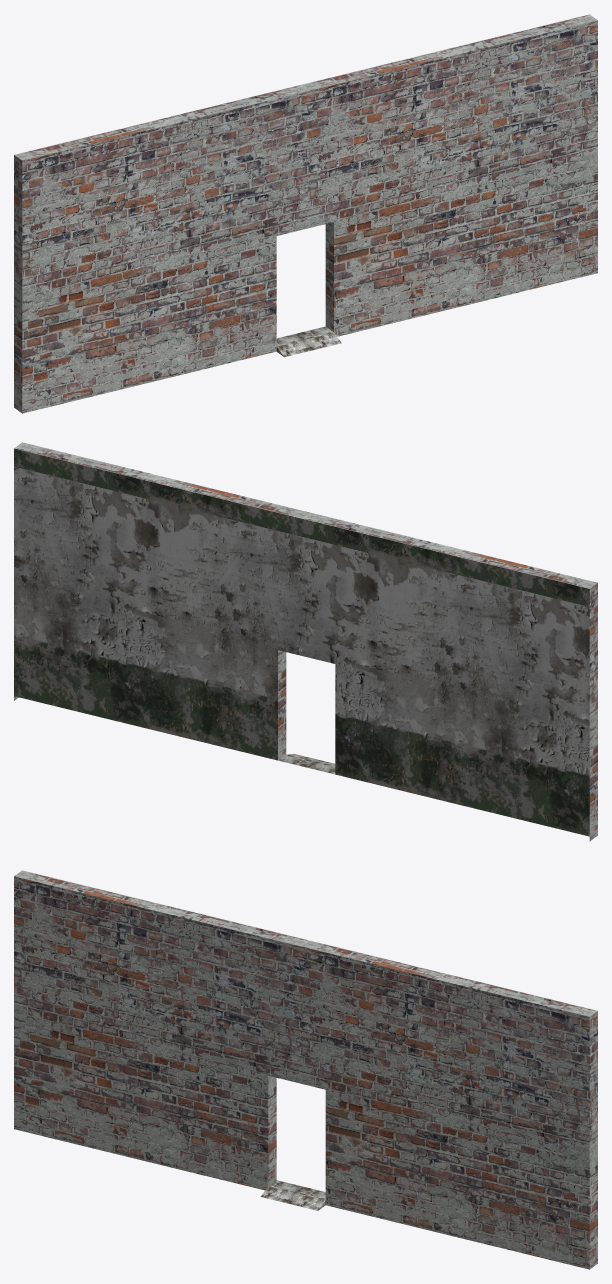
Rendered from Factory2Wall01.FBX.
3 renders of one model, top to bottom at view 1: azimuth 30°, elevation 25°; view 2: azimuth 150°, elevation 25°; view 3: azimuth 330°, elevation 25°, orthographic.
Visible parts, largest first — view 1: Factory2Wall01; view 2: Factory2Wall01; view 3: Factory2Wall01.
Part boxes in pixels (x1,y1,x2,y2): Factory2Wall01: (14,14,597,413); Factory2Wall01: (14,442,597,841); Factory2Wall01: (14,870,597,1269).
Bounding box in the file's own units: 1200 × 503 × 58.
